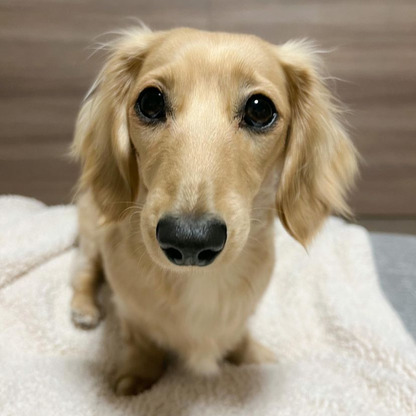dachshund: (42, 26, 364, 396)
